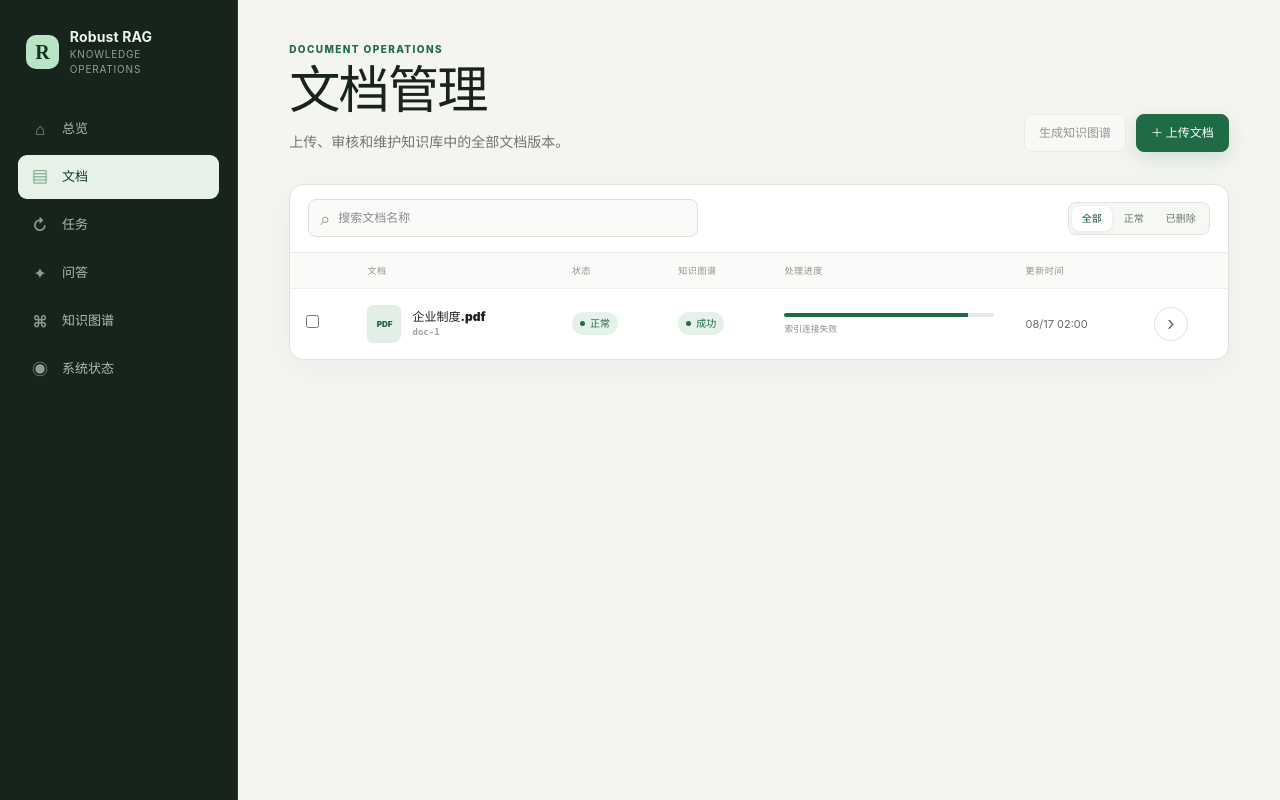
Test: stage 10 application › updates the open document detail after soft deletion
This screenshot has width=1280, height=800.
What coordinates should you click on to do the following:
click the button "PDF 企业制度.pdf doc-1"
I would click on:
 (454, 324)
Its box is [368,305,540,343].
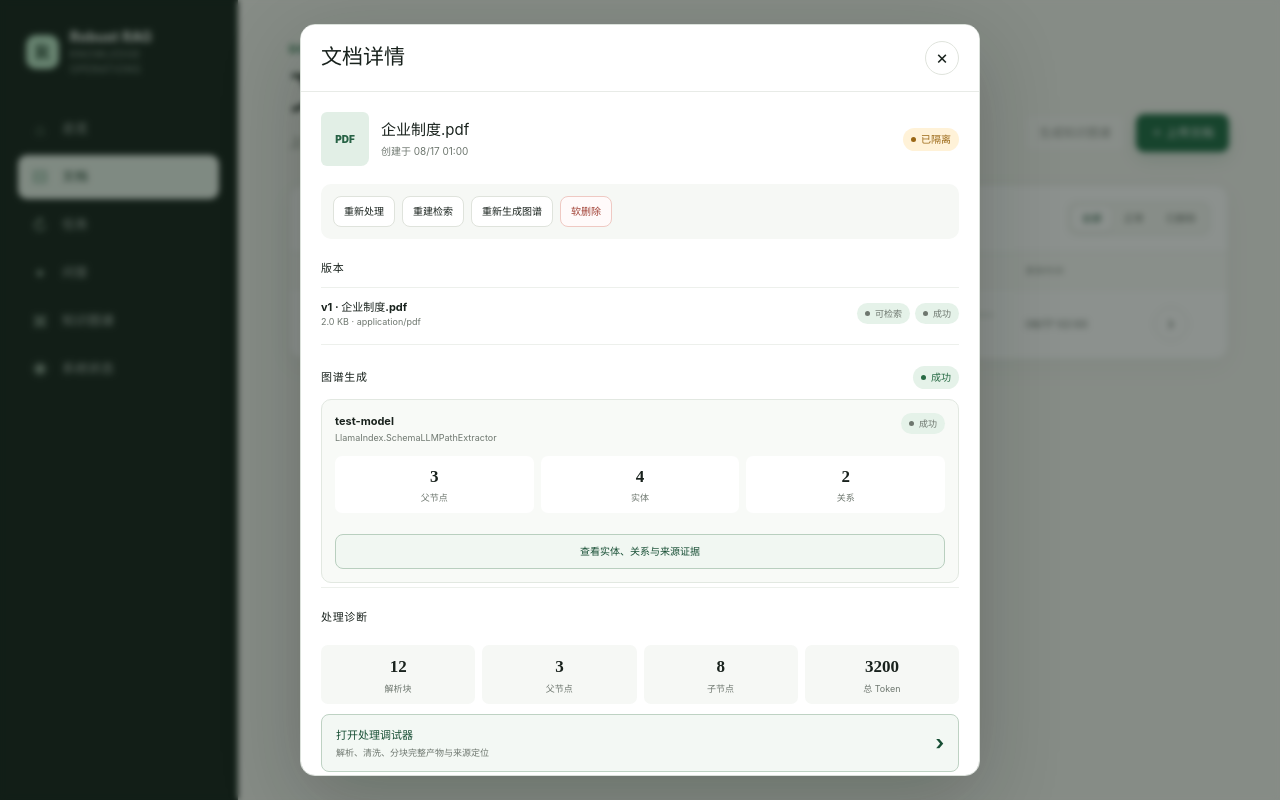
What coordinates should you click on to do the following:
click the button "软删除"
I would click on:
 (586, 212)
Its box is [560,196,612,227].
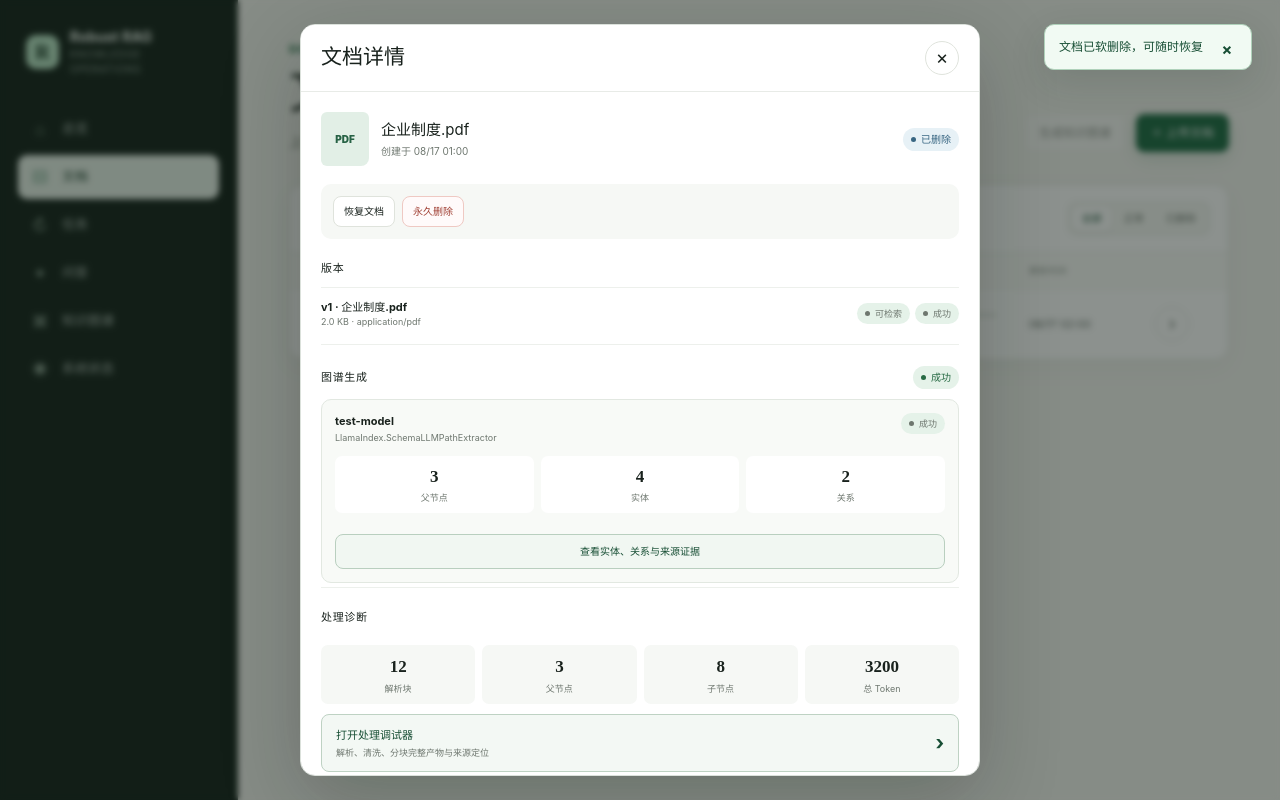
Expected: the text "文档已软删除，可随时恢复" is shown, [1059,39,1203,54]
Expected: the text "已删除" is shown, [903,128,959,150]
Expected: the button "恢复文档" is shown, [333,196,395,227]
